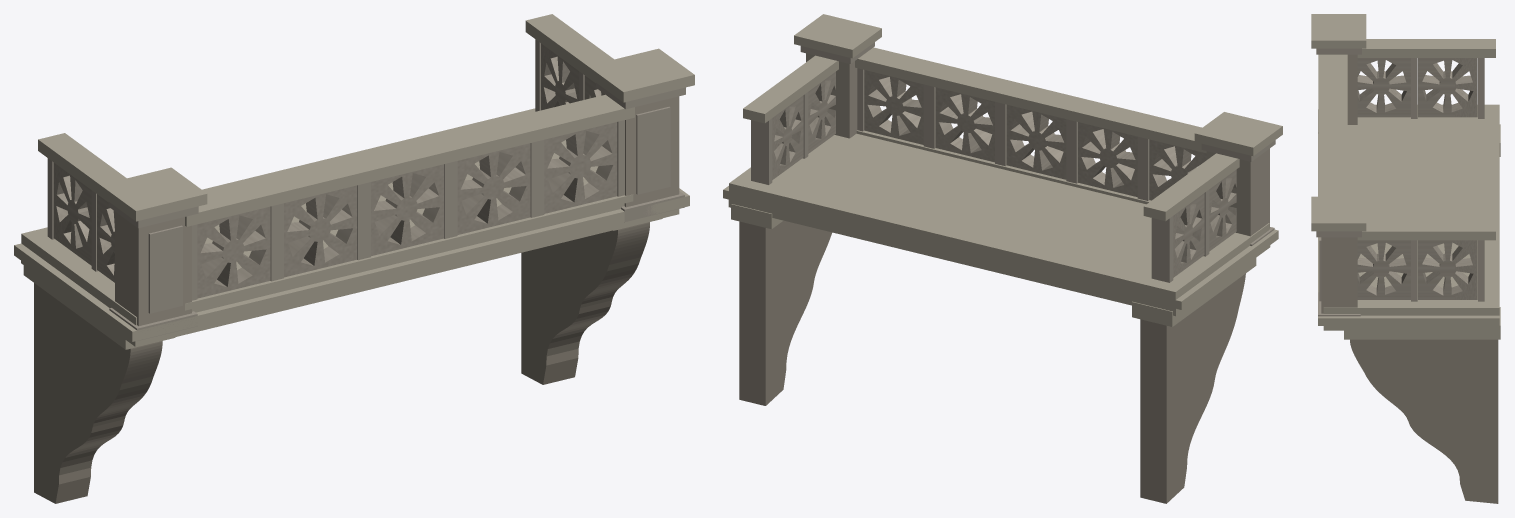
File: huangpu-associate-mission-balcony-raw.glb
The picture shows the model from 3 angles, left to right: view 1: azimuth 30°, elevation 25°; view 2: azimuth 150°, elevation 25°; view 3: azimuth 270°, elevation 25°; orthographic projection. The views are drawn at different scales.
Parts seen in each view (by area): view 1: 协进大楼沿街五格透花石阳台与挑托; view 2: 协进大楼沿街五格透花石阳台与挑托; view 3: 协进大楼沿街五格透花石阳台与挑托.
Boxes of the visible parts, x1=… form: 协进大楼沿街五格透花石阳台与挑托: x1=14, y1=14, x2=694, y2=503; 协进大楼沿街五格透花石阳台与挑托: x1=723, y1=14, x2=1282, y2=503; 协进大楼沿街五格透花石阳台与挑托: x1=1311, y1=14, x2=1500, y2=503.
Size of the model in its own units: 3.42 by 2.19 by 1.31.
5 materials, 1 textured.
